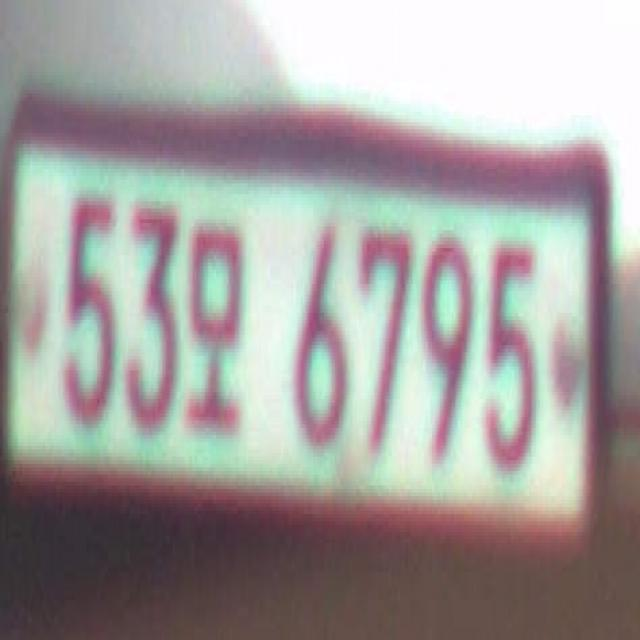3: (126, 180, 178, 464)
5: (53, 165, 124, 435), (484, 234, 542, 482)
6: (286, 198, 359, 467)
7: (351, 205, 421, 471)
9: (418, 194, 480, 486)
license_plate: (1, 123, 621, 522)
mo: (181, 216, 250, 435)
